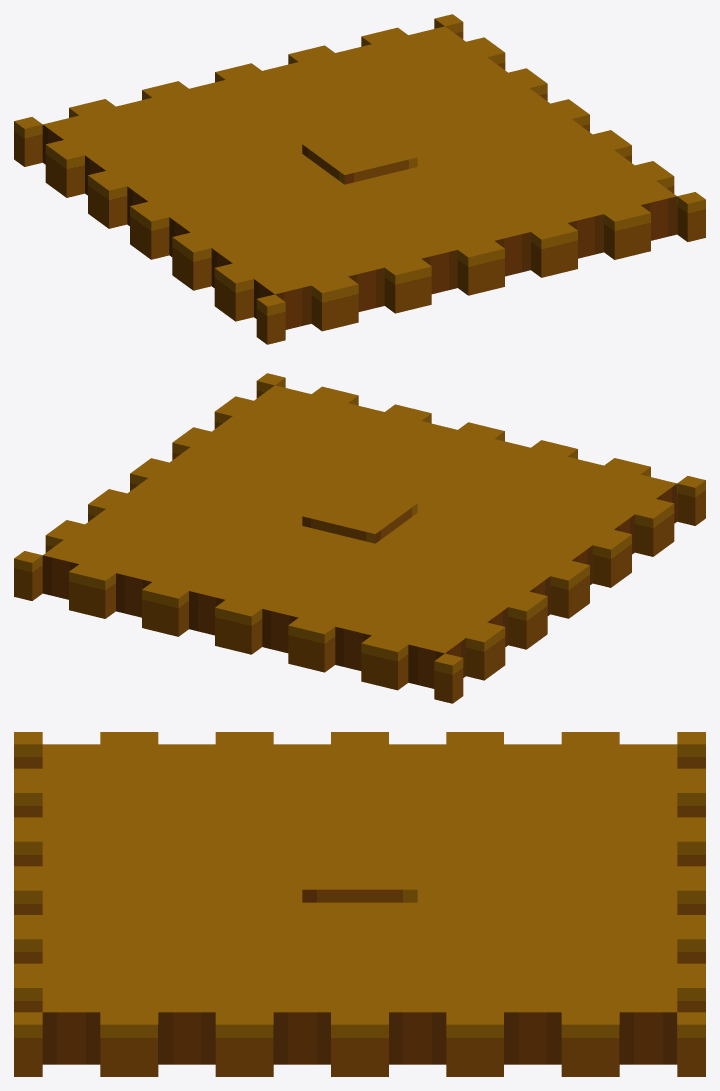
File: orr_cog_lao.fezao.glb
The picture shows the model from 3 angles, top to bottom: view 1: azimuth 30°, elevation 25°; view 2: azimuth 150°, elevation 25°; view 3: azimuth 270°, elevation 25°; orthographic projection. The views are drawn at different scales.
Visible parts, largest first — view 1: ORR_COG_LAO; view 2: ORR_COG_LAO; view 3: ORR_COG_LAO.
Part boxes in pixels (x1,y1,x2,y2): ORR_COG_LAO: (14, 14, 705, 344); ORR_COG_LAO: (14, 373, 705, 703); ORR_COG_LAO: (14, 732, 705, 1076).
Bounding box in the file's own units: 3 × 0.375 × 3.
Materials: 1 (1 with a texture image).
